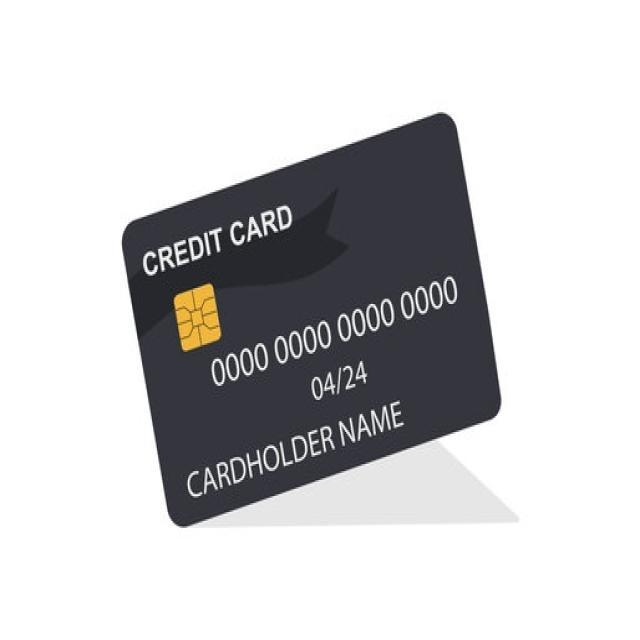payment_card: (120, 111, 504, 526)
